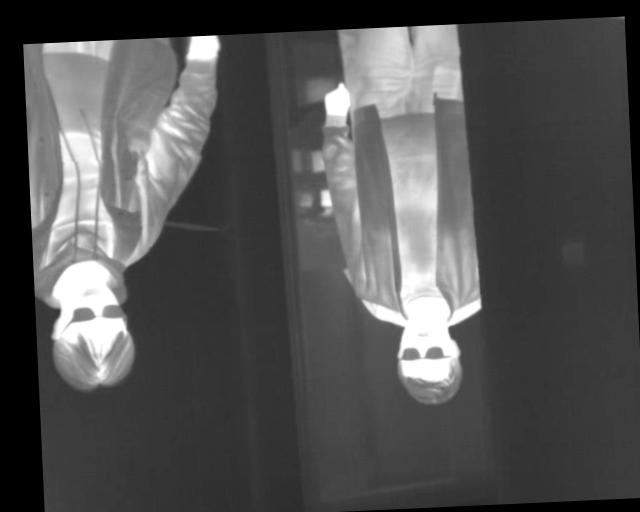face: (47, 275, 136, 394), (394, 308, 463, 403)
